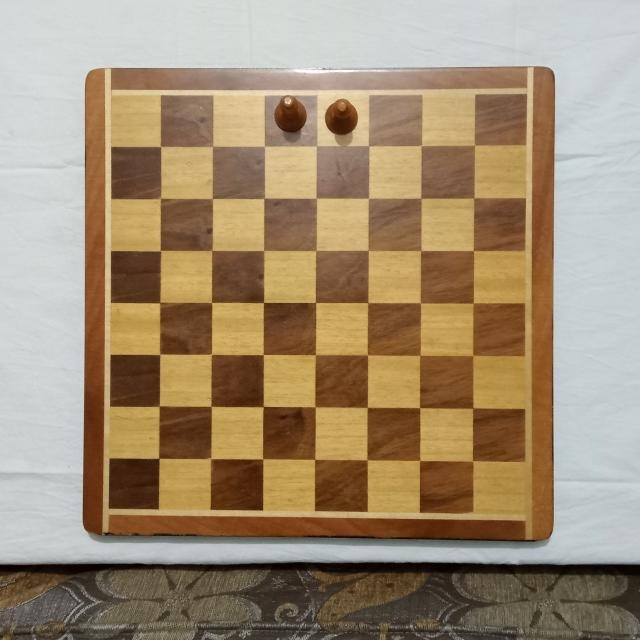white-pawn: (272, 93, 308, 135), (323, 97, 359, 135)
